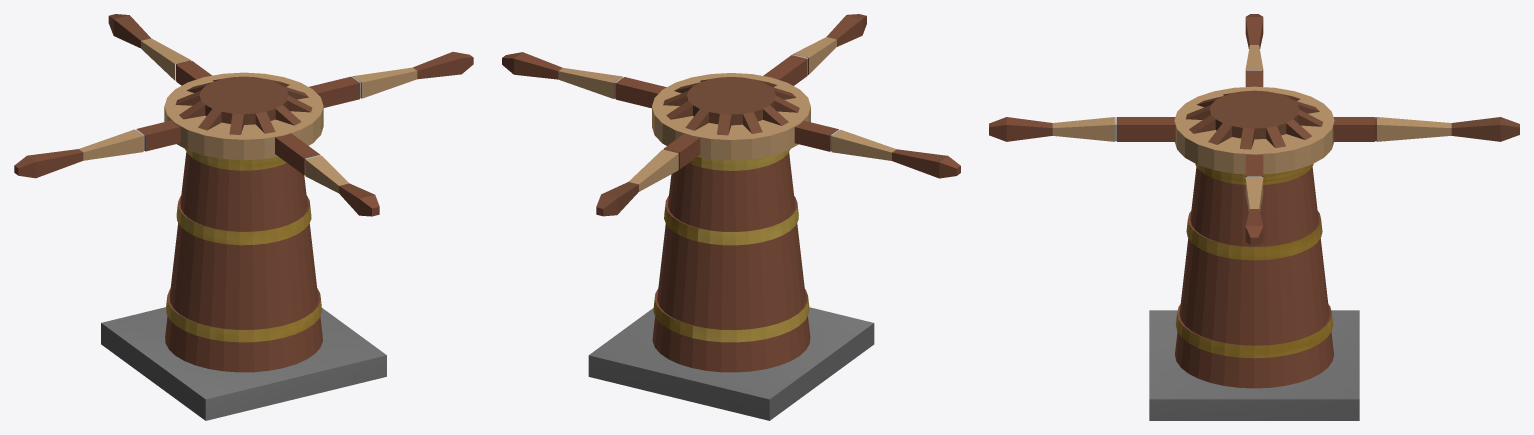
The model's file is Capstan_Color.fbx.
3 views of the same model, side by side, from view 1: azimuth 30°, elevation 25°; view 2: azimuth 150°, elevation 25°; view 3: azimuth 270°, elevation 25° (orthographic).
Parts seen in each view (by area): view 1: Cylinder, Cylinder.001, Cube; view 2: Cylinder, Cylinder.001, Cube; view 3: Cylinder, Cylinder.001, Cube.
Part boxes in pixels (left/top/right/bottom): Cylinder: left=165, top=149, right=322, bottom=372; Cylinder.001: left=14, top=14, right=473, bottom=216; Cube: left=101, top=307, right=386, bottom=420; Cylinder: left=652, top=149, right=810, bottom=372; Cylinder.001: left=502, top=14, right=960, bottom=216; Cube: left=588, top=307, right=874, bottom=420; Cylinder: left=1175, top=163, right=1333, bottom=388; Cylinder.001: left=989, top=14, right=1519, bottom=244; Cube: left=1149, top=310, right=1359, bottom=420.
Bounding box in the file's own units: 502 × 280 × 504.
